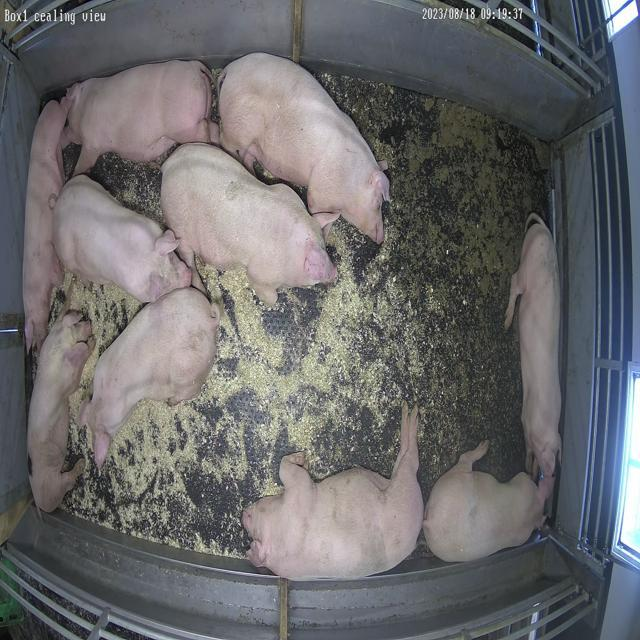Dirt: (322, 74, 551, 494)
Pig: (219, 52, 390, 244), (243, 405, 424, 579), (161, 143, 337, 306), (79, 289, 220, 468), (61, 60, 219, 174), (53, 176, 191, 303), (506, 213, 563, 502), (424, 442, 555, 563), (28, 311, 94, 513), (22, 100, 68, 350)
